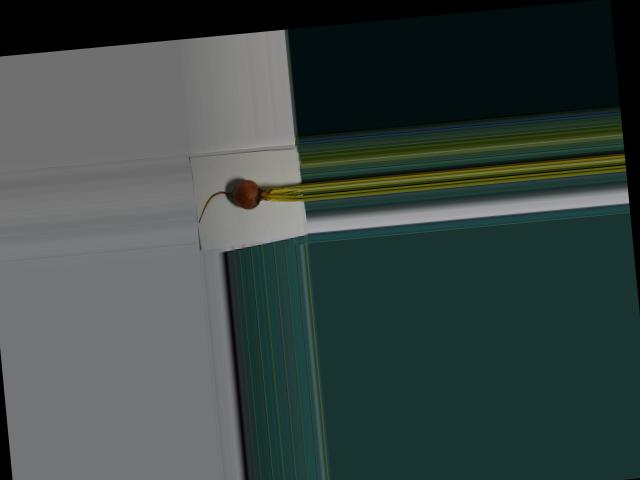beet: (195, 174, 305, 222)
